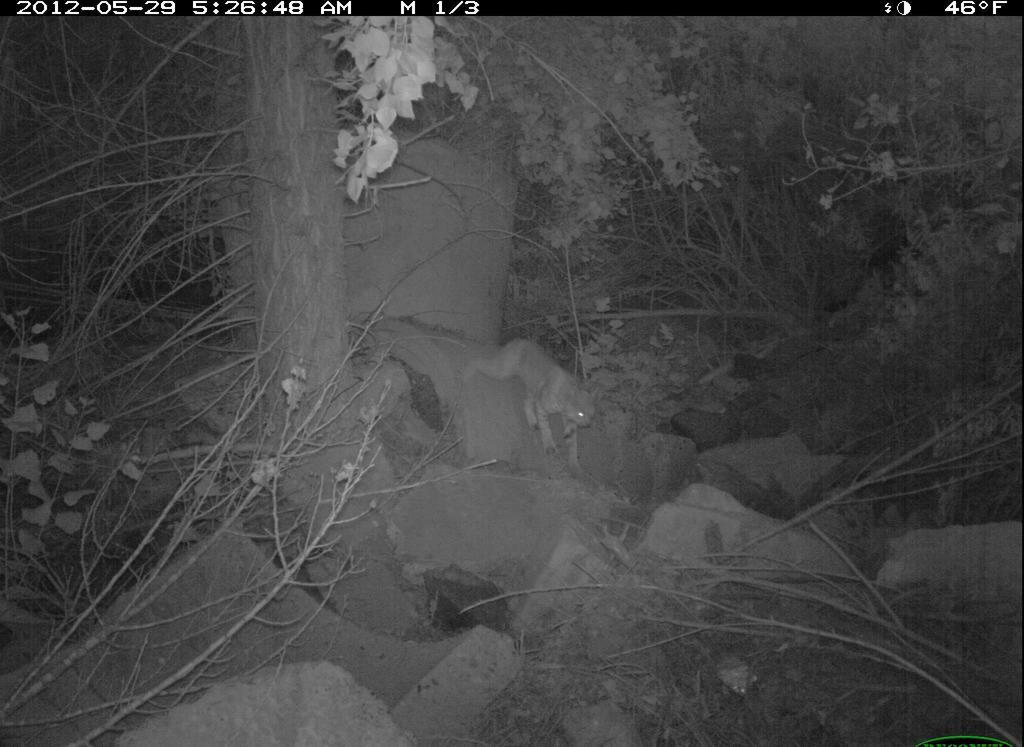bobcat: (469, 329, 601, 475)
